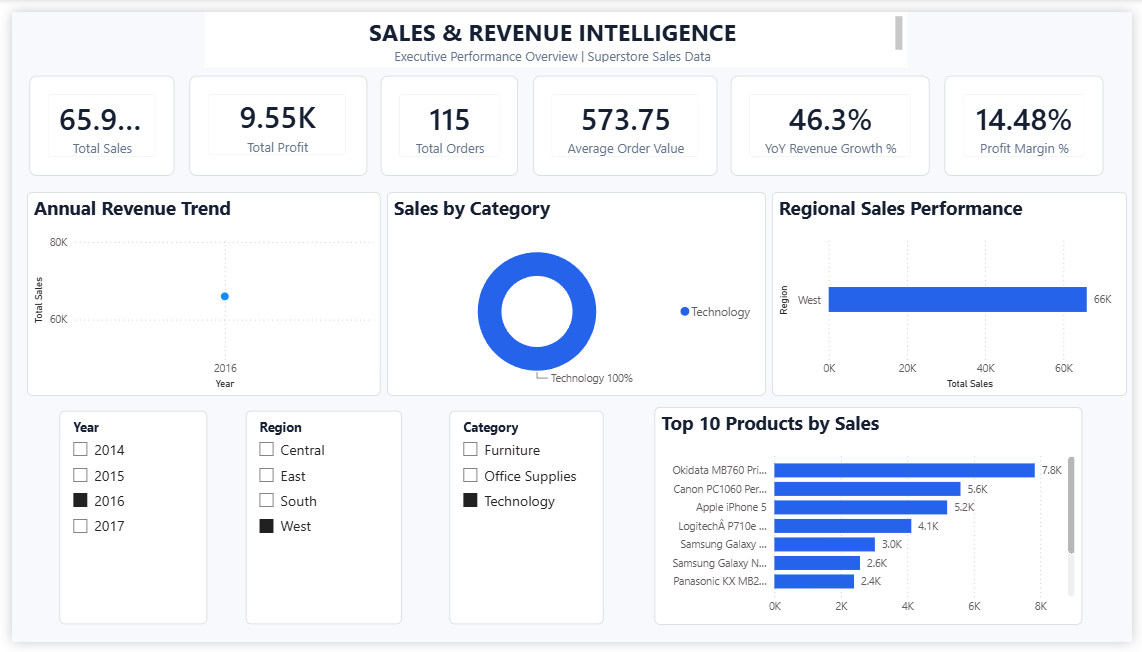

The page's visual inventory and layout, read from the dashboard file:
{"tool":"powerbi","page":{"name":"Executive Overview","canvas":[1280,720],"ordinal":0},"visuals":[{"type":"textbox","box":[220,0,802.9,62.9],"z":0},{"type":"cardVisual","fields":{"Data":["Raw_Data.Total Sales"]},"box":[20,72.9,165.7,114.3],"z":1000},{"type":"cardVisual","fields":{"Data":["Raw_Data.Total Profit"]},"box":[202.9,72.9,202.9,114.3],"z":2000},{"type":"cardVisual","fields":{"Data":["Raw_Data.Total Orders"]},"box":[421.7,72.9,157.1,114.3],"z":3000},{"type":"cardVisual","fields":{"Data":["Raw_Data.Average Order Value"]},"box":[595.4,72.9,210,114.3],"z":4000},{"type":"cardVisual","fields":{"Data":["DateTable.YoY Revenue Growth %"]},"box":[822,72.9,227.1,114.3],"z":5000},{"type":"cardVisual","fields":{"Data":["Raw_Data.Profit Margin %"]},"box":[1065.7,72.9,181.4,114.3],"z":6000},{"type":"lineChart","title":"Annual Revenue Trend","fields":{"Category":["DateTable.Month","DateTable.Year"],"Y":["Raw_Data.Total Sales"]},"box":[17.1,205.7,404.3,232.9],"z":7000},{"type":"donutChart","title":"Sales by Category","fields":{"Category":["Raw_Data.Category"],"Y":["Raw_Data.Total Sales"]},"box":[428.6,205.7,432.9,232.9],"z":8000},{"type":"clusteredBarChart","title":"Regional Sales Performance","fields":{"Category":["Raw_Data.Region"],"Y":["Raw_Data.Total Sales"]},"box":[868.6,205.7,405.7,232.9],"z":9000},{"type":"clusteredBarChart","title":"Top 10 Products by Sales","fields":{"Category":["Raw_Data.Product Name"],"Y":["Raw_Data.Total Sales"]},"box":[734.3,451.4,488.6,248.6],"z":10000},{"type":"slicer","fields":{"Values":["DateTable.Year"]},"box":[54.3,455.7,168.6,244.3],"z":11000},{"type":"slicer","fields":{"Values":["Raw_Data.Region"]},"box":[267.1,455.7,178.6,244.3],"z":12000},{"type":"slicer","fields":{"Values":["Raw_Data.Category"]},"box":[500,455.7,175.7,244.3],"z":13000}]}

Visuals, with their boxes in screenshot pixels (x1, y1, x2, y2), scaled from the page's 1280x720 canvas onto the 1142x652 screenshot:
textbox: locate(196, 0, 913, 57)
cardVisual - Raw_Data.Total Sales: locate(18, 66, 166, 170)
cardVisual - Raw_Data.Total Profit: locate(181, 66, 362, 170)
cardVisual - Raw_Data.Total Orders: locate(376, 66, 516, 170)
cardVisual - Raw_Data.Average Order Value: locate(531, 66, 719, 170)
cardVisual - DateTable.YoY Revenue Growth %: locate(733, 66, 936, 170)
cardVisual - Raw_Data.Profit Margin %: locate(951, 66, 1113, 170)
"Annual Revenue Trend" lineChart: locate(15, 186, 376, 397)
"Sales by Category" donutChart: locate(382, 186, 769, 397)
"Regional Sales Performance" clusteredBarChart: locate(775, 186, 1137, 397)
"Top 10 Products by Sales" clusteredBarChart: locate(655, 409, 1091, 634)
slicer - DateTable.Year: locate(48, 413, 199, 634)
slicer - Raw_Data.Region: locate(238, 413, 398, 634)
slicer - Raw_Data.Category: locate(446, 413, 603, 634)
